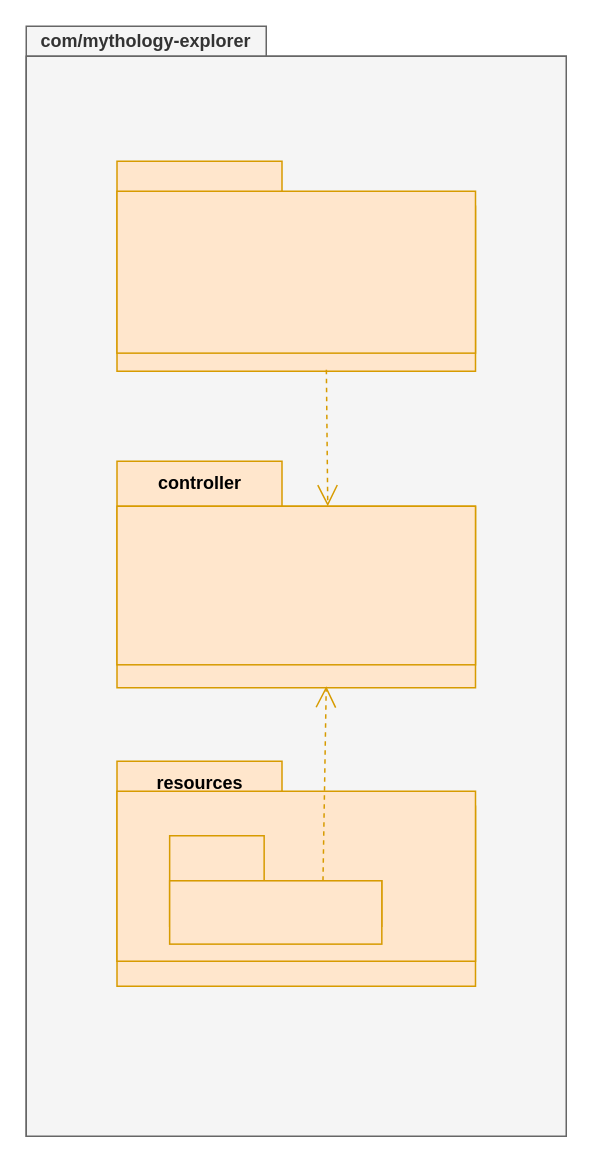
This 593x1163 diagram has some shape labels left out. The box of each missing label's shape, as (x1, y1, x2, y2) in pixels:
model: (116, 160, 476, 371)
view: (168, 834, 382, 926)
